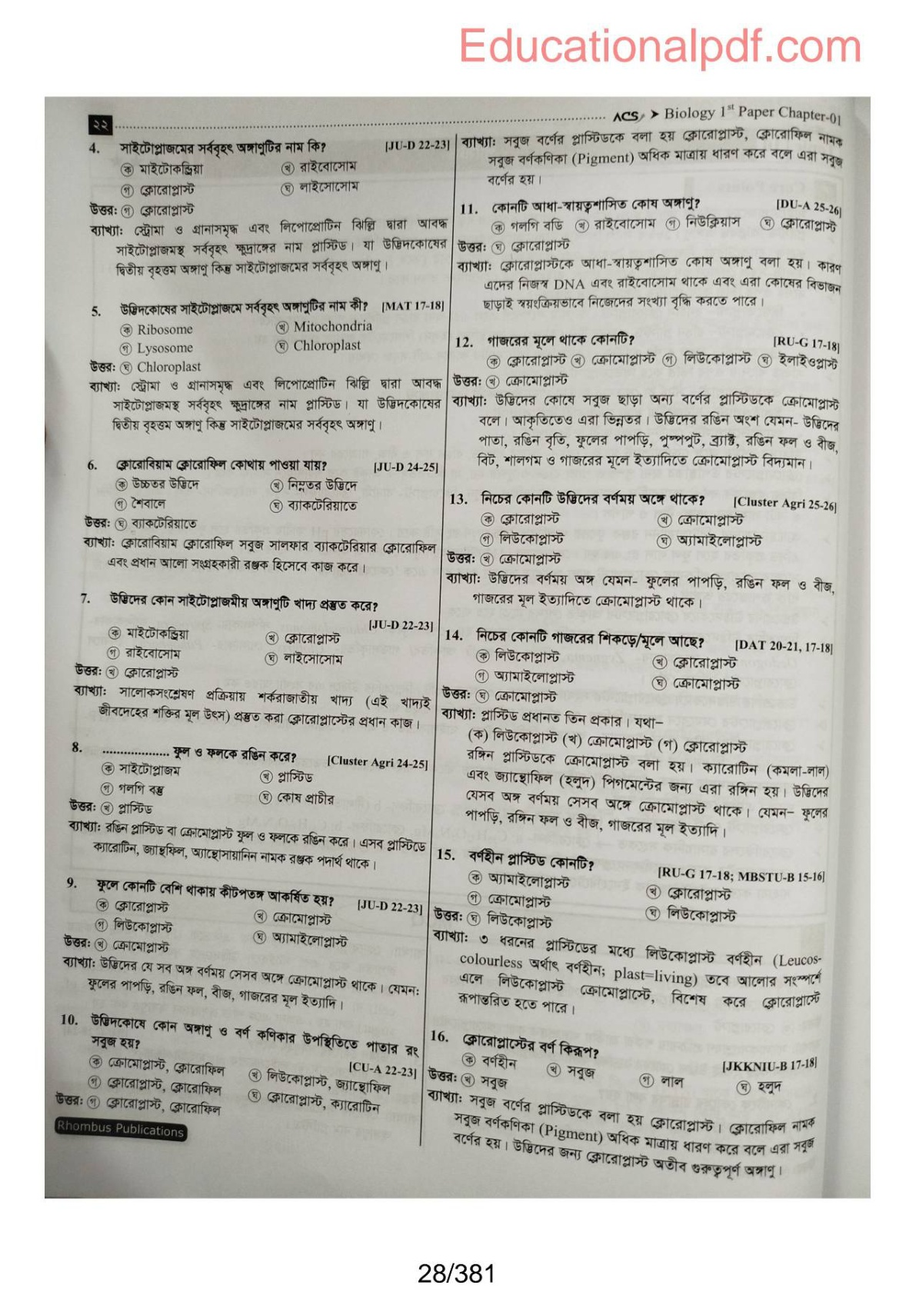question: (58, 128, 449, 284), (58, 288, 444, 436), (58, 448, 438, 579), (58, 998, 419, 1123), (433, 836, 855, 935), (433, 759, 855, 844), (433, 1018, 855, 1102), (58, 864, 424, 959), (58, 580, 434, 672), (433, 617, 855, 698), (433, 476, 855, 553), (433, 186, 855, 258), (433, 322, 855, 377), (58, 729, 430, 782)
